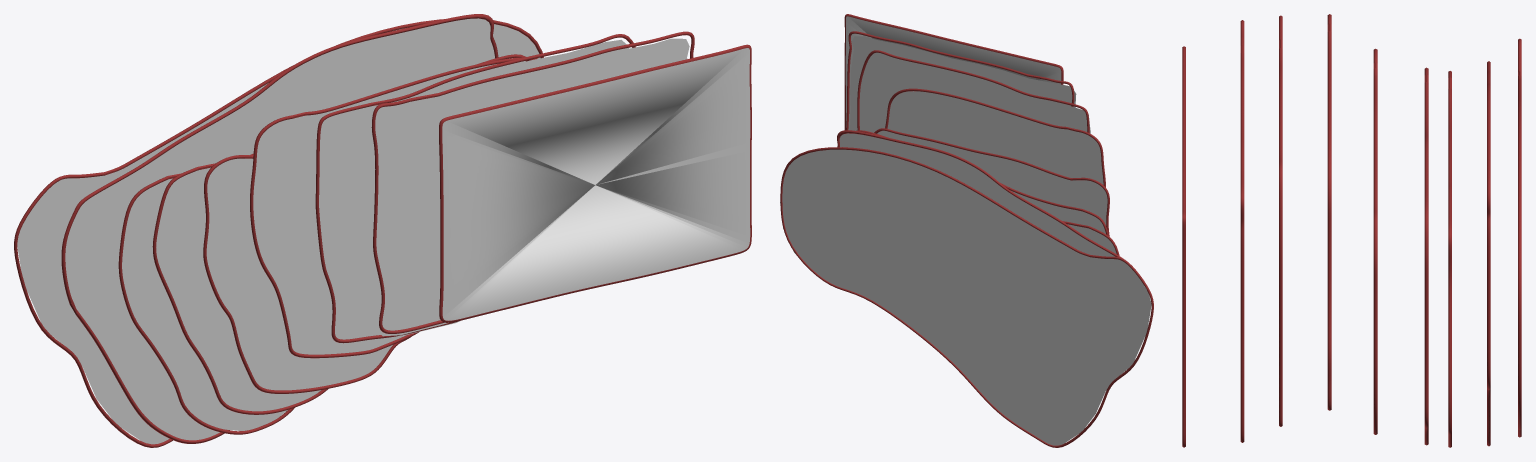
File: Frame3.glb
3 views of the same model, side by side, from view 1: azimuth 30°, elevation 25°; view 2: azimuth 150°, elevation 25°; view 3: azimuth 270°, elevation 25° (orthographic). The views are drawn at different scales.
Visible parts, largest first — view 1: pasted__pasted__pasted__pasted__pasted__Outline12.002; view 2: pasted__pasted__pasted__pasted__pasted__Outline12.002; view 3: pasted__pasted__pasted__pasted__pasted__Outline12.002.
Boxes of the visible parts, x1,y1,x2,y2 form: pasted__pasted__pasted__pasted__pasted__Outline12.002: [14, 14, 751, 447]; pasted__pasted__pasted__pasted__pasted__Outline12.002: [780, 14, 1153, 447]; pasted__pasted__pasted__pasted__pasted__Outline12.002: [1182, 14, 1521, 447].
Bounding box in the file's own units: 0.4447 × 0.2942 × 0.1954.
